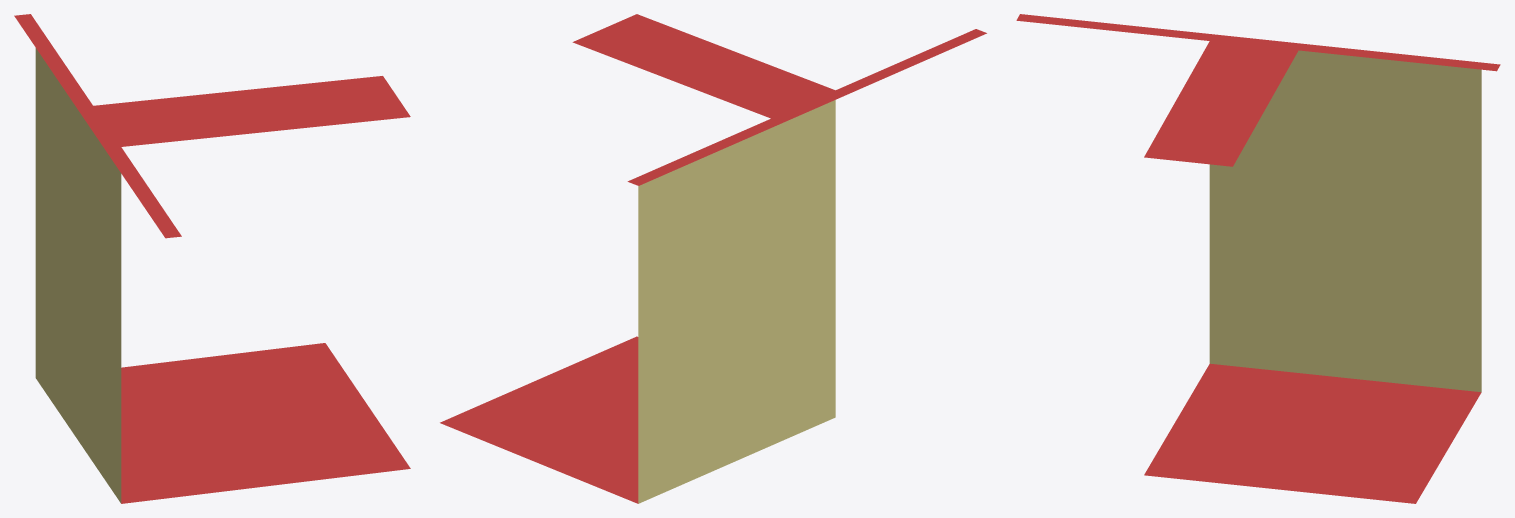
3 views of the same model, side by side, from view 1: azimuth 30°, elevation 25°; view 2: azimuth 150°, elevation 25°; view 3: azimuth 270°, elevation 25° (orthographic). The views are drawn at different scales.
Bounding box in the file's own units: 6.3 × 7.71 × 5.67.
